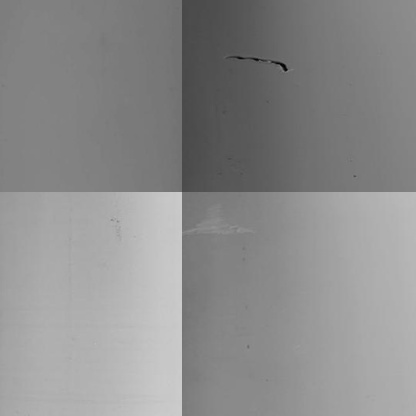fengxi: (219, 51, 289, 76)
sunshang: (187, 201, 251, 242)
